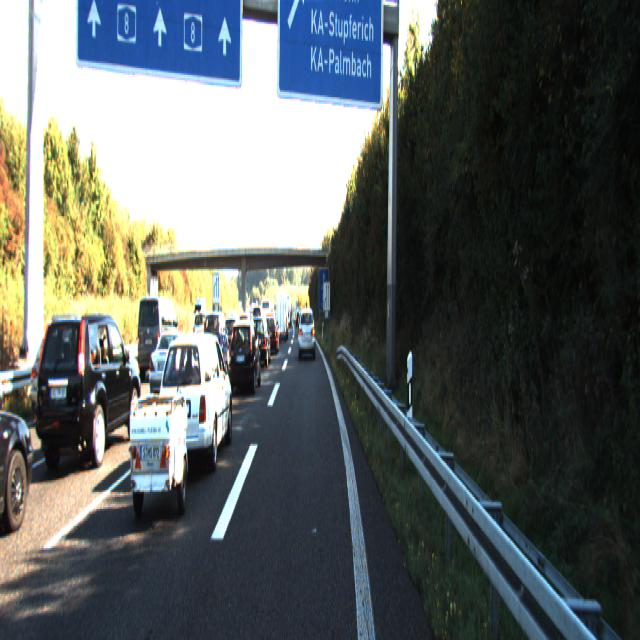Car: (34, 310, 142, 475), (156, 323, 234, 480), (125, 386, 193, 525), (0, 334, 42, 540), (136, 294, 182, 382), (147, 324, 197, 401), (227, 314, 261, 392), (202, 308, 230, 373), (247, 311, 270, 366), (298, 304, 315, 358), (263, 316, 280, 356), (274, 290, 288, 338)
